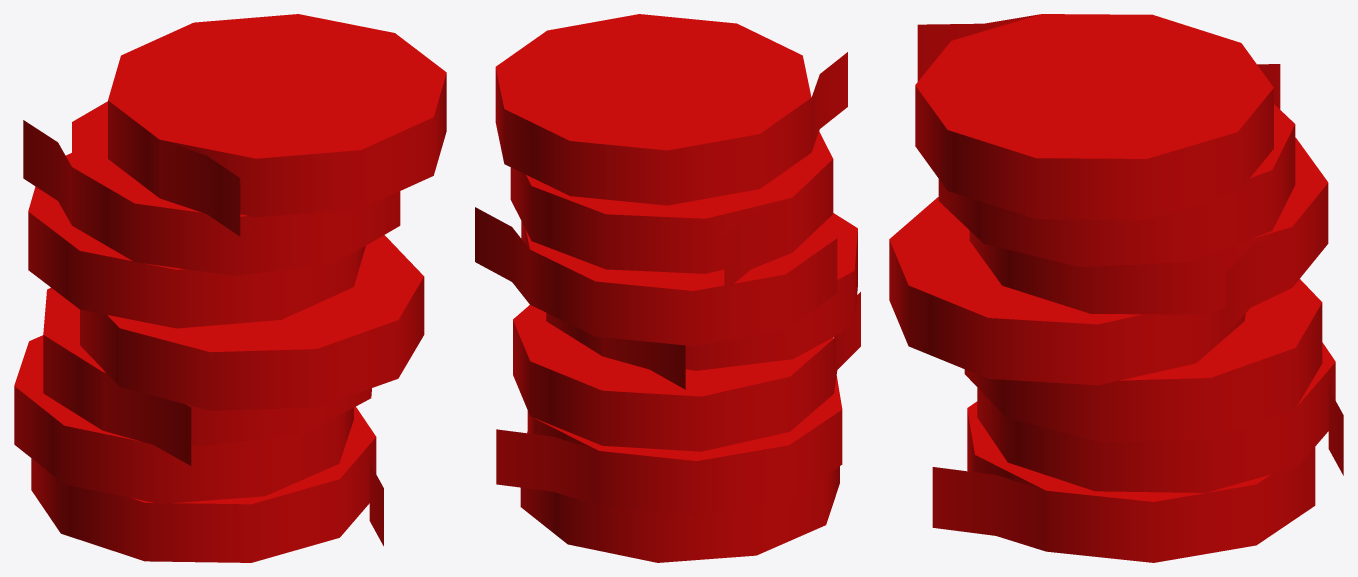
Rendered from ticket_roll_stack.fbx.
3 views of the same model, side by side, from view 1: azimuth 30°, elevation 25°; view 2: azimuth 150°, elevation 25°; view 3: azimuth 270°, elevation 25° (orthographic). The views are drawn at different scales.
Parts seen in each view (by area): view 1: ticket_roll_stack; view 2: ticket_roll_stack; view 3: ticket_roll_stack.
Part boxes in pixels (box(x1,y1,x2,y2)): ticket_roll_stack: box(14, 14, 446, 562); ticket_roll_stack: box(475, 14, 860, 562); ticket_roll_stack: box(889, 14, 1343, 562).
Bounding box in the file's own units: 93.66 × 105 × 101.
